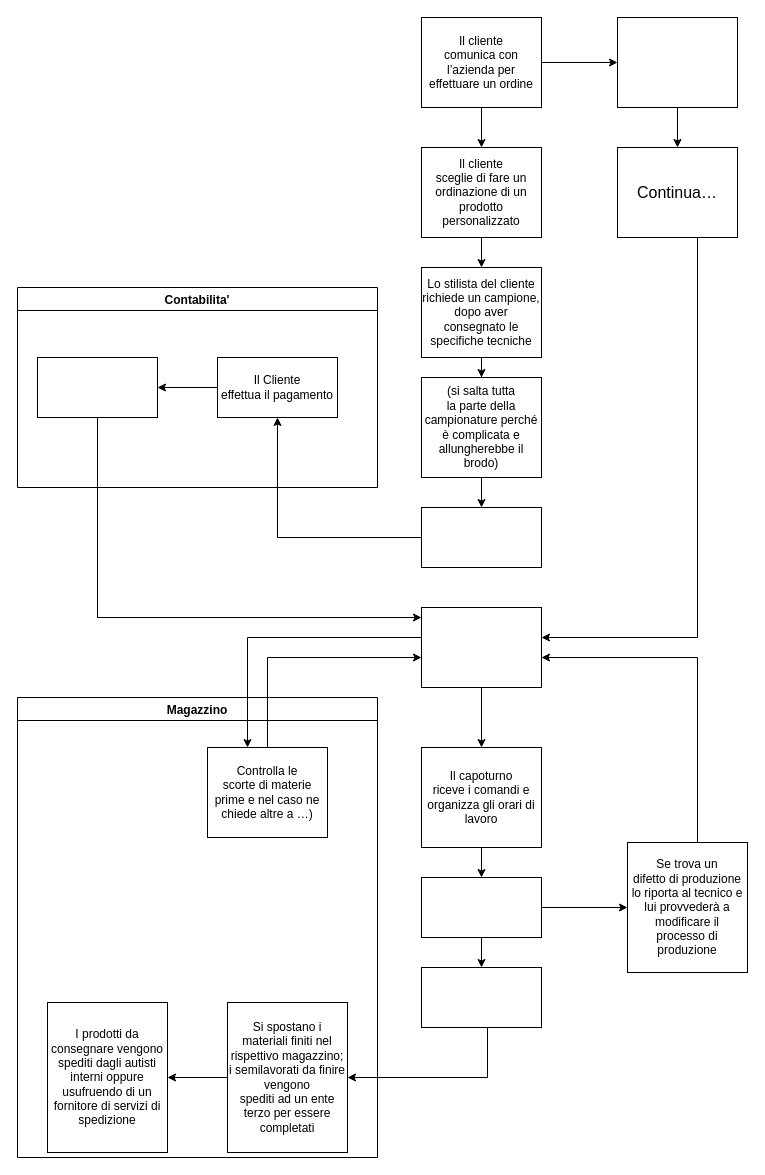
Some shapes in this 765 by 1175 pixel diagram are drawn without their labels. The shapes that lost their labels are listed below. From the top down, each one's centre as x and y in pixels, then its label:
At [677,62]: "Il cliente sceglie un prodotto dalla collezione esistente".
At [97,387]: "(come lo fa e chi lo gestisce)".
At [481,537]: "Il campione viene approvato".
At [481,647]: "L’impiegato tecnico inizia i preparativi per la messa in produzione".
At [481,907]: "A lavoro in corso avviene il controllo qualità".
At [481,997]: "Lavoro concluso".
